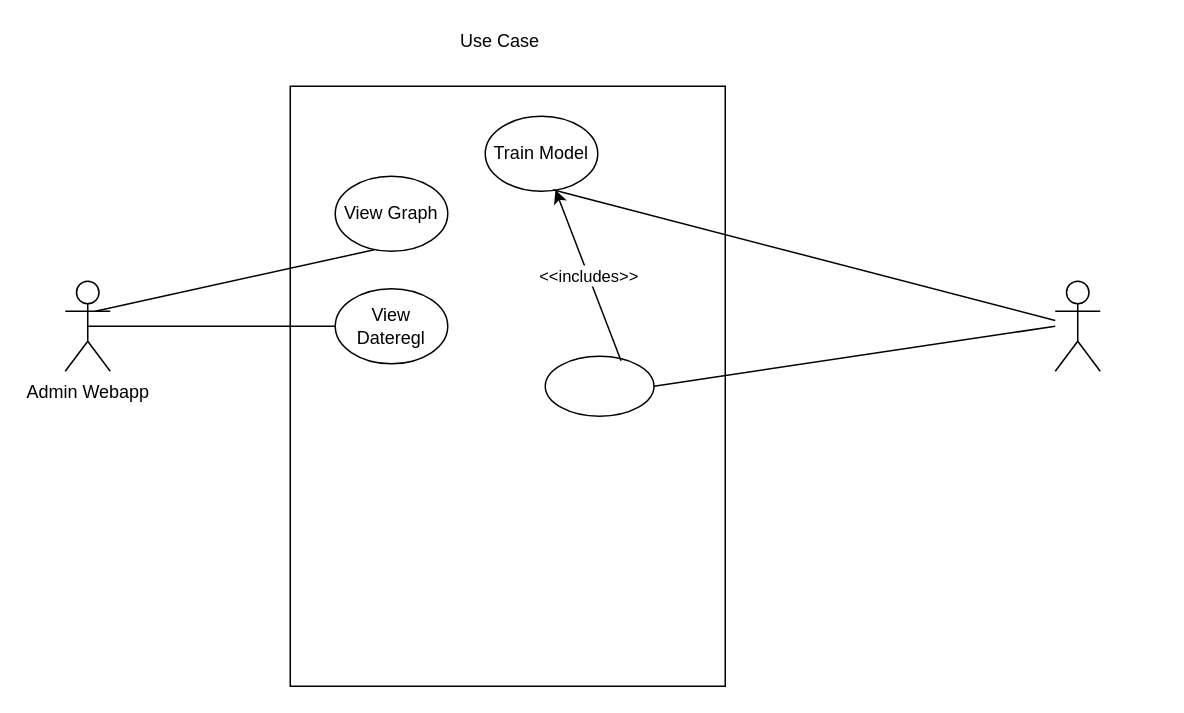
This 1184x713 diagram has some shape labels left out. Here are the shapes that lost their labels. From the top down, the centre of each, then its label:
point (1077, 325): Admin Desktop APP
point (599, 385): View Errors
